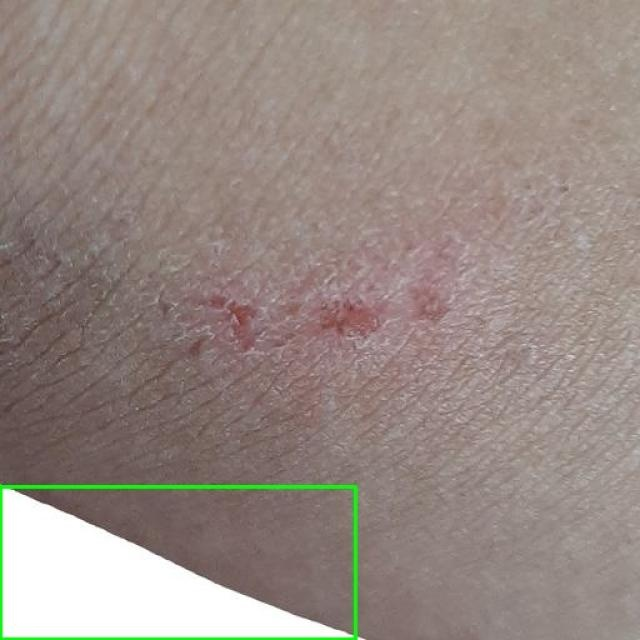Scabies: (0, 486, 356, 639)
